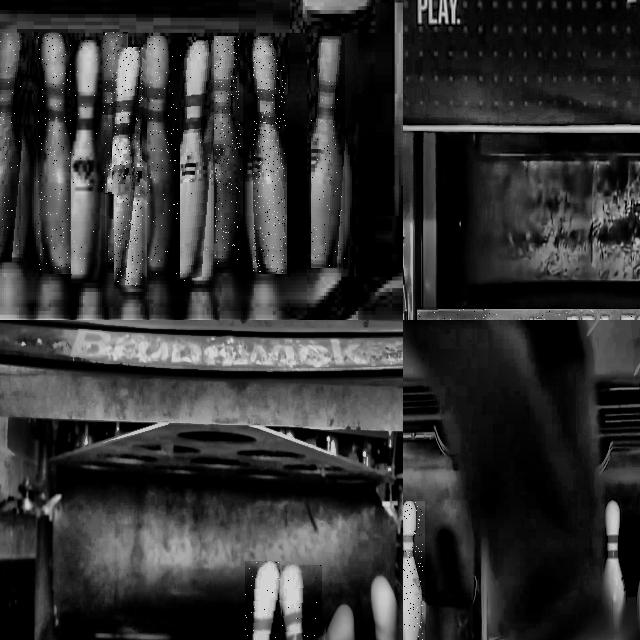bowling-pins: (39, 34, 72, 271), (311, 37, 345, 266), (253, 38, 286, 273), (180, 40, 212, 281), (72, 40, 103, 282), (147, 37, 178, 274), (115, 48, 143, 287), (215, 37, 241, 266), (0, 33, 21, 262), (104, 32, 125, 194), (403, 502, 423, 640), (255, 562, 280, 640), (282, 566, 305, 640), (108, 219, 114, 260)
